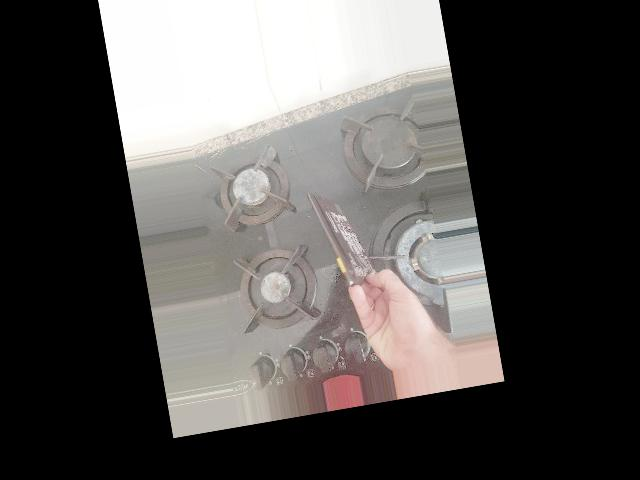chocolate: (304, 182, 382, 301)
